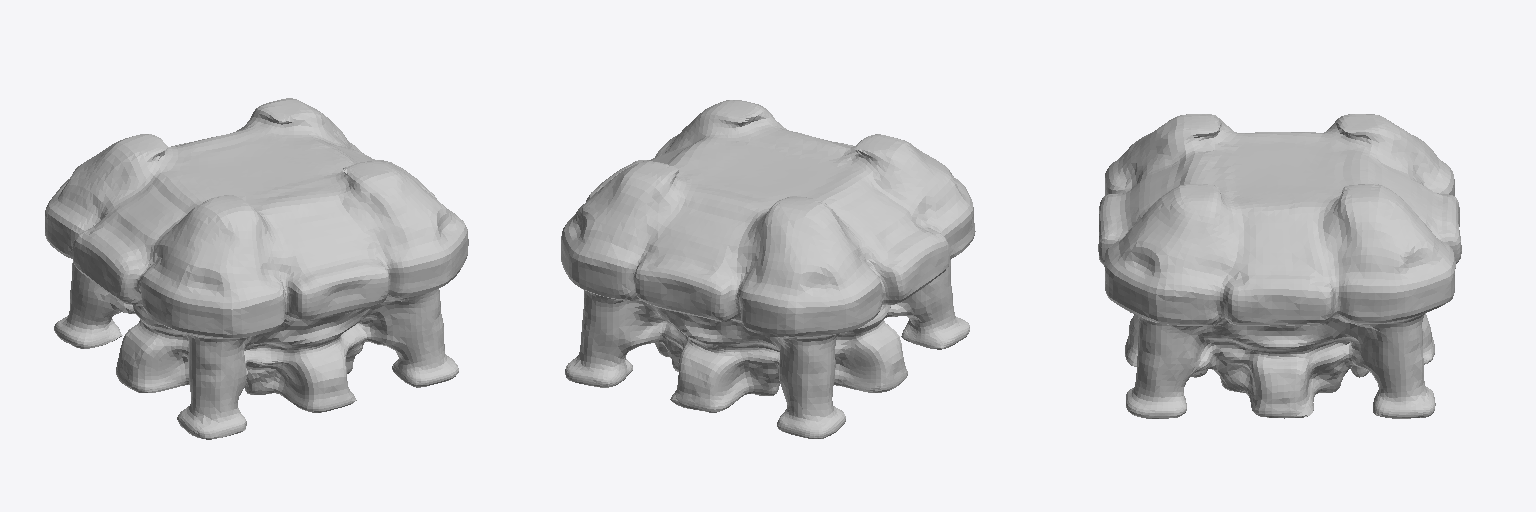
Rendered from ec173e09cda5_sci_fi_base__HD_min.obj.
The picture shows the model from 3 angles: view 1: azimuth 30°, elevation 25°; view 2: azimuth 150°, elevation 25°; view 3: azimuth 270°, elevation 25°; orthographic projection.
Parts seen in each view (by area): view 1: mesh; view 2: mesh; view 3: mesh.
Boxes of the visible parts, x1=… form: mesh: x1=45, y1=98, x2=468, y2=439; mesh: x1=561, y1=100, x2=975, y2=438; mesh: x1=1098, y1=114, x2=1461, y2=418.
Size of the model in its own units: 0.9984 by 0.5965 by 0.9806.